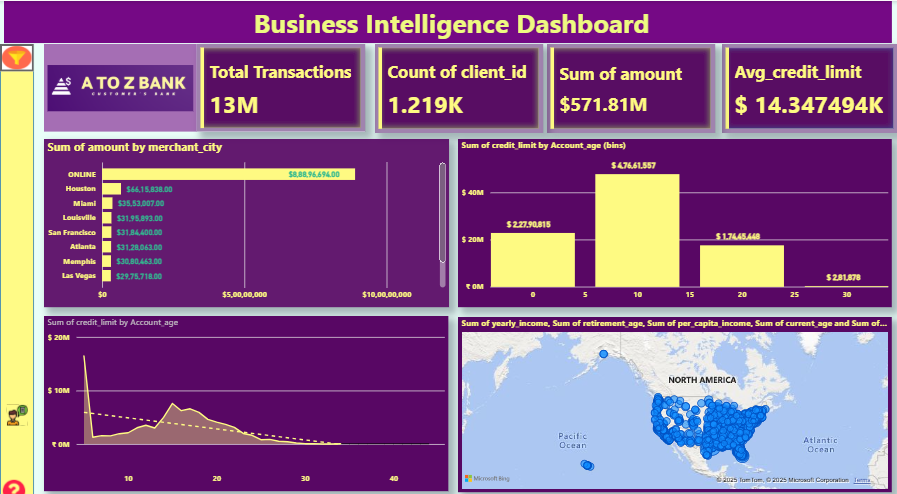

What the dashboard file says about the page in this screenshot:
{"tool":"powerbi","page":{"name":"Business intelligence","canvas":[1280,720],"ordinal":3},"visuals":[{"type":"textbox","box":[5.2,0,1267.2,60.2],"z":0},{"type":"image","box":[62.6,60.8,218.1,125.1],"z":1000},{"type":"cardVisual","fields":{"Data":["transactions_data.quantity_of_transaction_data"]},"box":[280.7,60.8,239.6,125.1],"z":2000},{"type":"cardVisual","fields":{"Data":["Count(transactions_data.client_id)"]},"box":[534.5,60.8,239.6,126.9],"z":3000},{"type":"cardVisual","fields":{"Data":["Avg(cards_data.credit_limit)"]},"box":[1029.7,60.8,250.3,126.9],"z":4000},{"type":"cardVisual","fields":{"Data":["Sum(transactions_data.amount)"]},"box":[781.2,60.8,239.6,126.9],"z":5000},{"type":"clusteredBarChart","fields":{"Y":["Sum(transactions_data.amount)"],"Category":["transactions_data.merchant_city"]},"box":[62.8,196.9,577.9,239.7],"z":6000},{"type":"map","fields":{"Y":["users_data.latitude"],"X":["users_data.longitude"],"Size":["Sum(users_data.yearly_income)"]},"box":[653.6,450.9,619,250],"z":7000},{"type":"columnChart","fields":{"Y":["Sum(cards_data.credit_limit)"],"Category":["cards_data.Account_age (bins)"]},"box":[653.6,196.9,619.3,239.7],"z":8000},{"type":"lineChart","fields":{"Y":["Sum(cards_data.credit_limit)"],"Category":["cards_data.Account_age"]},"box":[62.9,450,577.1,250],"z":9000},{"type":"shape","box":[0,61.4,48.6,658.6],"z":10000},{"type":"actionButton","box":[0,61.5,48.4,39.3],"z":11000},{"type":"actionButton","box":[0,679.2,48.5,40],"z":19000},{"type":"actionButton","box":[5.2,565.5,38,51.1],"z":23000}]}

Visuals, with their boxes in screenshot pixels (x1, y1, x2, y2), scaled from the page's 1280x720 canvas onto the 897x494 screenshot:
textbox: [left=4, top=0, right=892, bottom=41]
image: [left=44, top=42, right=197, bottom=128]
cardVisual - transactions_data.quantity_of_transaction_data: [left=197, top=42, right=365, bottom=128]
cardVisual - Count(transactions_data.client_id): [left=375, top=42, right=542, bottom=129]
cardVisual - Avg(cards_data.credit_limit): [left=722, top=42, right=896, bottom=129]
cardVisual - Sum(transactions_data.amount): [left=547, top=42, right=715, bottom=129]
clusteredBarChart - Sum(transactions_data.amount) x transactions_data.merchant_city: [left=44, top=135, right=449, bottom=300]
map - users_data.latitude x users_data.longitude: [left=458, top=309, right=892, bottom=481]
columnChart - Sum(cards_data.credit_limit) x cards_data.Account_age (bins): [left=458, top=135, right=892, bottom=300]
lineChart - Sum(cards_data.credit_limit) x cards_data.Account_age: [left=44, top=309, right=448, bottom=480]
shape: [left=0, top=42, right=34, bottom=493]
actionButton: [left=0, top=42, right=34, bottom=69]
actionButton: [left=0, top=466, right=34, bottom=493]
actionButton: [left=4, top=388, right=30, bottom=423]
